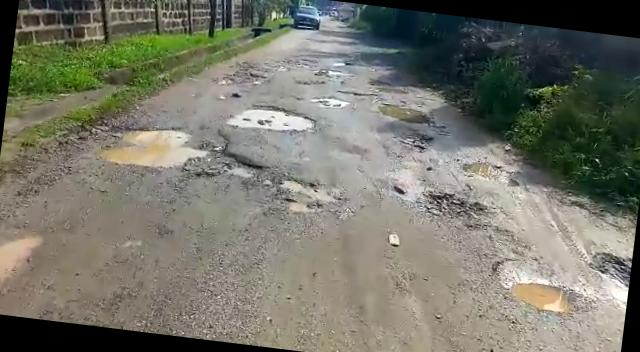pothole: (96, 117, 221, 176), (415, 187, 497, 233), (222, 100, 321, 138), (502, 276, 586, 316), (0, 229, 44, 298), (276, 176, 344, 219), (586, 246, 632, 296), (460, 156, 523, 186), (375, 101, 437, 127), (336, 86, 384, 100), (314, 93, 356, 108)
